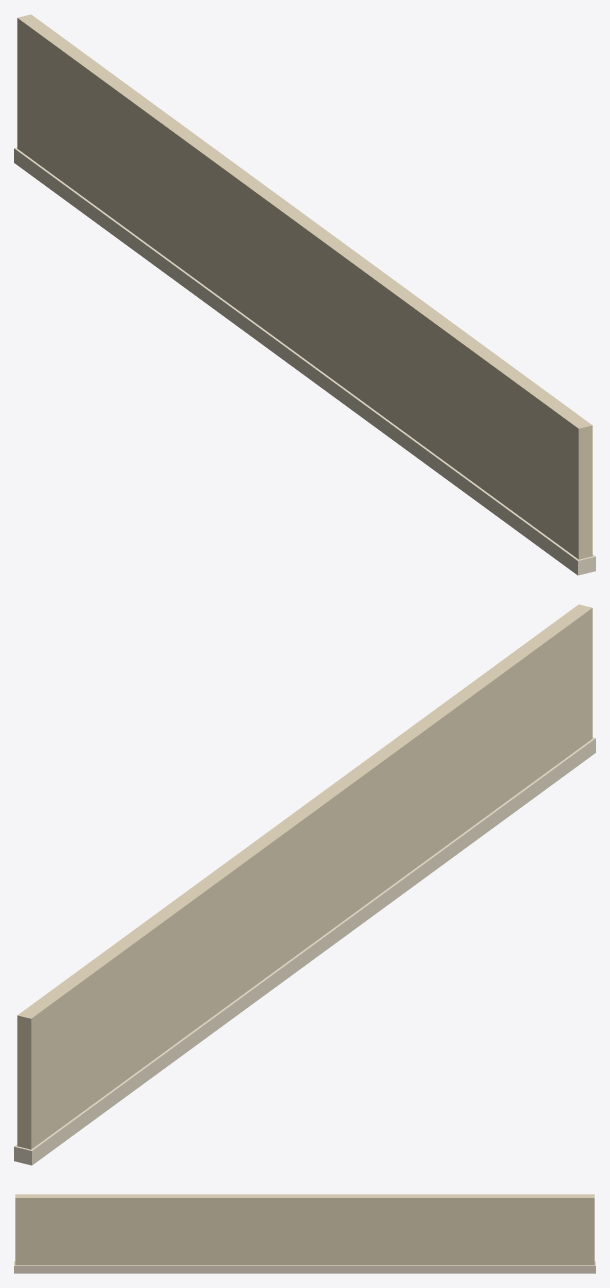
Rendered from Mesh_Wall_Full_14M.fbx.
3 views of the same model, one above another, from view 1: azimuth 30°, elevation 25°; view 2: azimuth 150°, elevation 25°; view 3: azimuth 270°, elevation 25° (orthographic). The views are drawn at different scales.
Visible parts, largest first — view 1: Wall_Centre_room_long_14M; view 2: Wall_Centre_room_long_14M; view 3: Wall_Centre_room_long_14M.
Part boxes in pixels (x1=…): Wall_Centre_room_long_14M: x1=14, y1=14, x2=595, y2=575; Wall_Centre_room_long_14M: x1=14, y1=604, x2=595, y2=1165; Wall_Centre_room_long_14M: x1=14, y1=1194, x2=595, y2=1273.
Size of the model in its own units: 26 by 200 by 1406.
